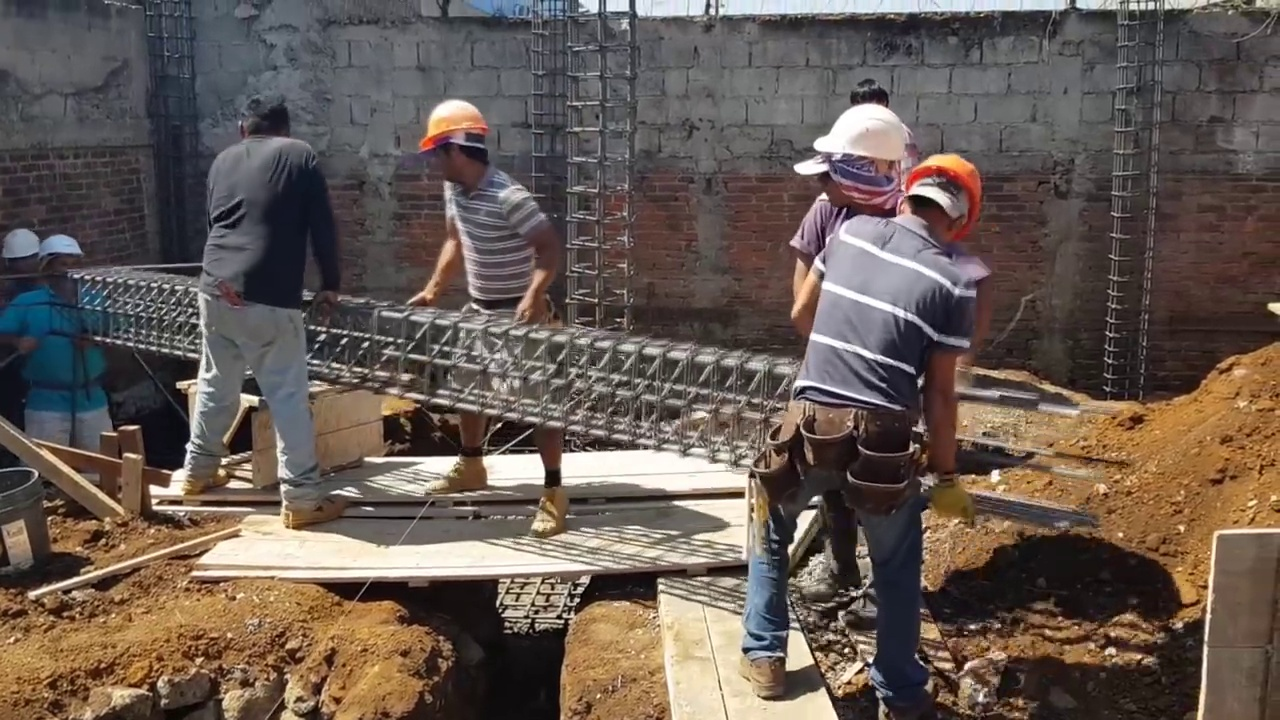helmet: (805, 106, 915, 178), (1005, 180, 1092, 257), (915, 150, 988, 241), (415, 102, 492, 155), (0, 225, 39, 271), (40, 235, 82, 266)
helmet-off: (234, 96, 284, 142), (845, 77, 891, 112)
helmet-on: (806, 101, 916, 215), (894, 151, 990, 254), (413, 103, 488, 188), (34, 236, 86, 301)
person: (753, 144, 1002, 701), (179, 103, 341, 527), (407, 112, 553, 477), (5, 232, 113, 491)
